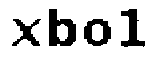1: (117, 3, 147, 52)
b: (44, 6, 78, 50)
o: (81, 17, 113, 49)
x: (8, 15, 43, 49)
